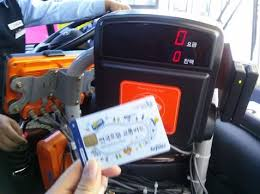terminal: (92, 9, 224, 155)
